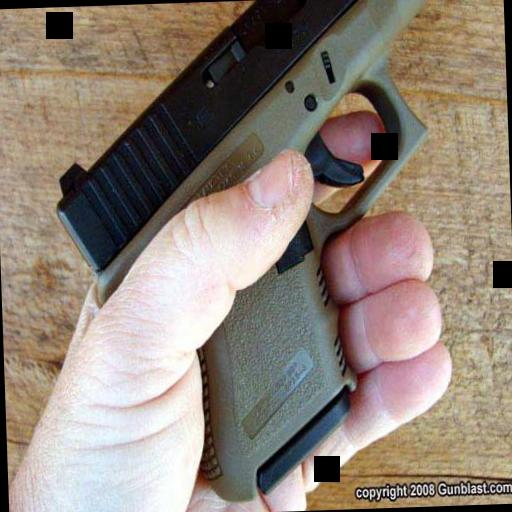Handgun: (42, 0, 457, 478)
